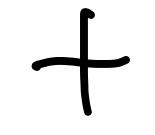plus: (30, 7, 130, 114)
